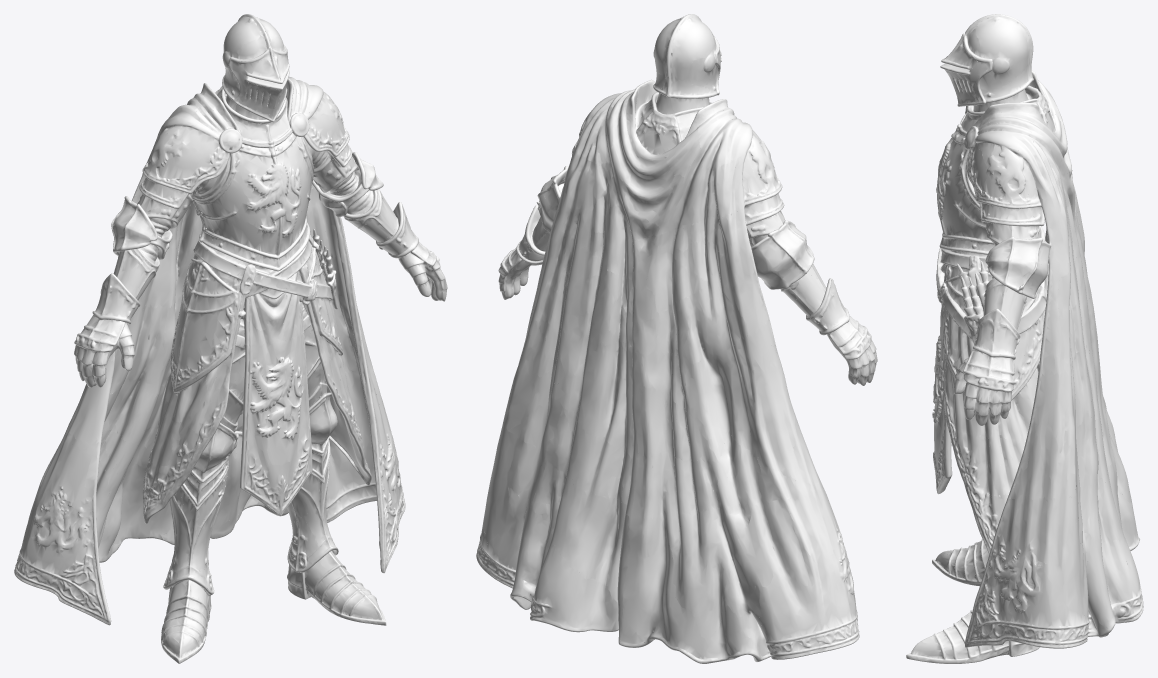
File: SirAldric_SEP_body_nosword_PAINTED_mid450k.glb
3 views of the same model, side by side, from view 1: azimuth 30°, elevation 25°; view 2: azimuth 150°, elevation 25°; view 3: azimuth 270°, elevation 25° (orthographic). The views are drawn at different scales.
Parts seen in each view (by area): view 1: SirAldric_SEP_body_nosword_PAINTED_MID450; view 2: SirAldric_SEP_body_nosword_PAINTED_MID450; view 3: SirAldric_SEP_body_nosword_PAINTED_MID450.
Boxes of the visible parts, x1,y1,x2,y2 form: SirAldric_SEP_body_nosword_PAINTED_MID450: (14,14,447,663); SirAldric_SEP_body_nosword_PAINTED_MID450: (476,14,877,663); SirAldric_SEP_body_nosword_PAINTED_MID450: (906,14,1143,663).
Bounding box in the file's own units: 1.27 × 1.9 × 0.6787.
1 material, 1 textured.
